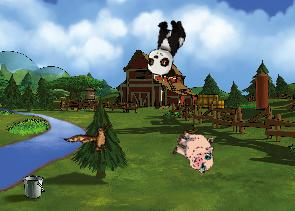eagle: (63, 110, 122, 167)
panda: (143, 15, 188, 80)
pig: (168, 125, 221, 176)
